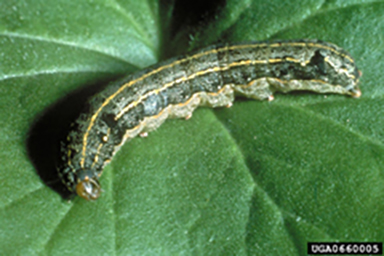Armyworm: (44, 36, 364, 214)
